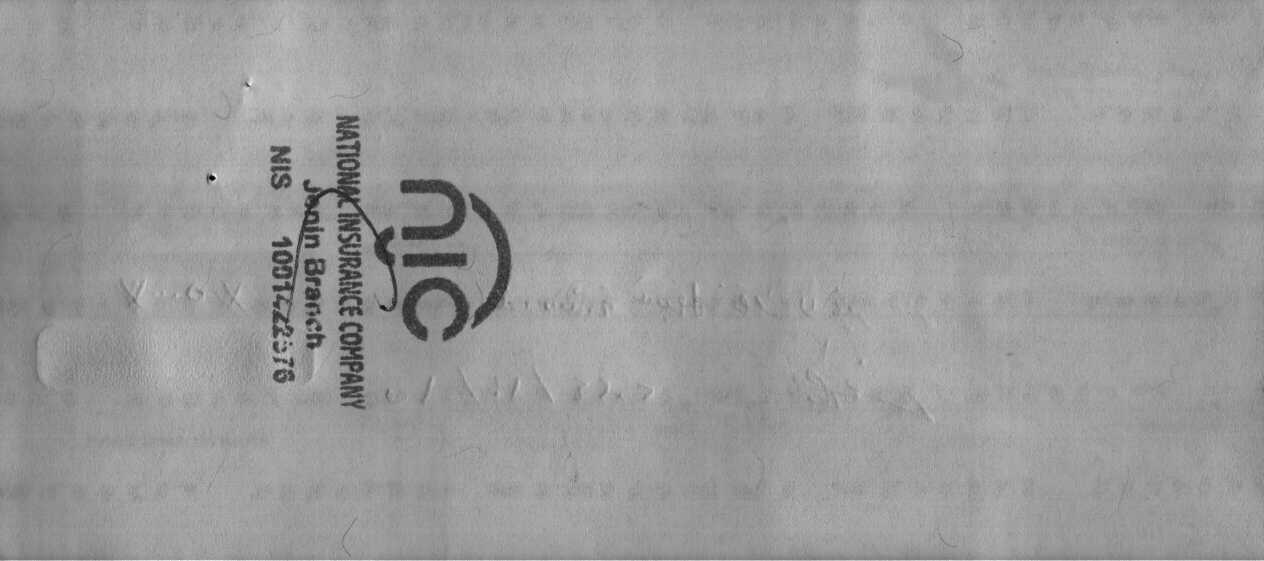stamp: (258, 104, 516, 415)
